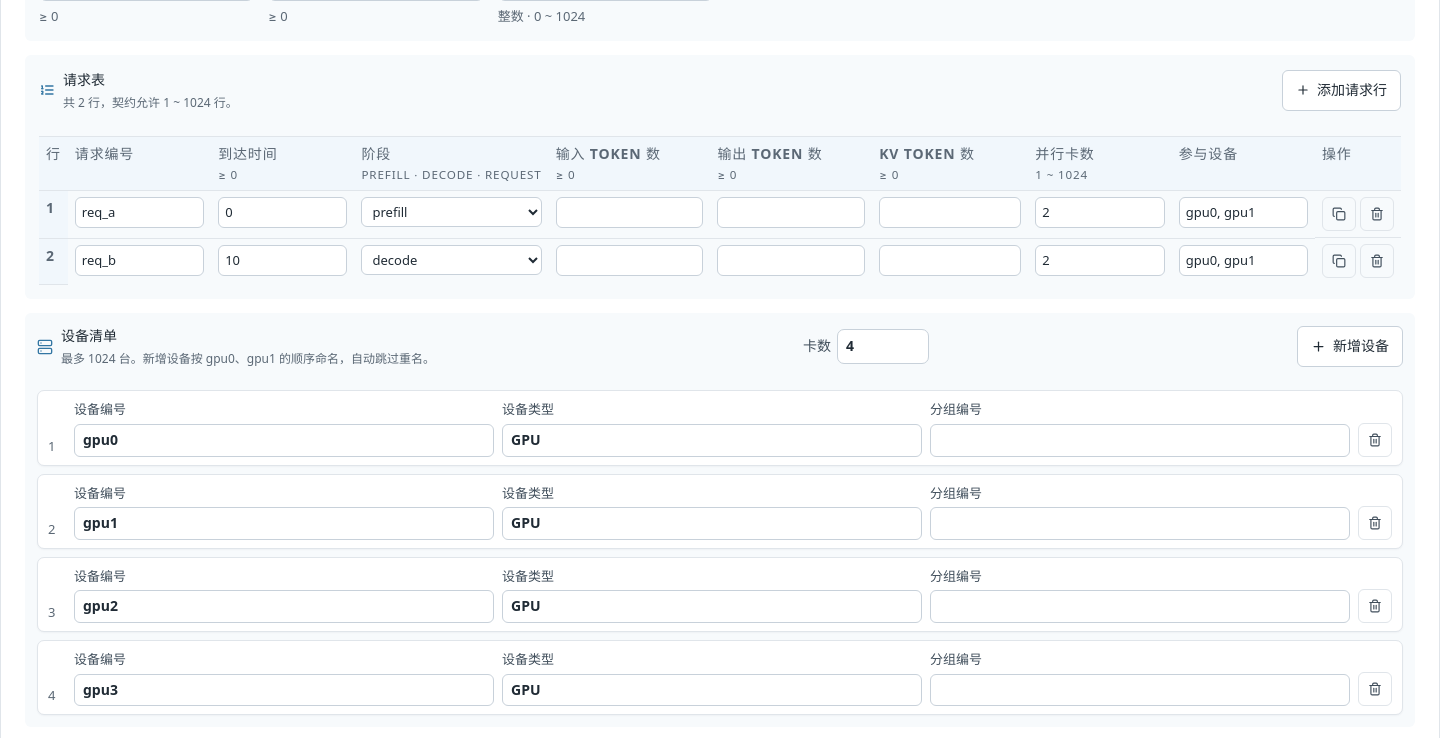
it: structured input panel › refuses a device count below zero with an inline error
(page scrolled)
Step 1. Replace the text in the number field labelled "卡数" with "-2" → {"x": 883, "y": 346}, box [837,329,929,364]
(page scrolled)
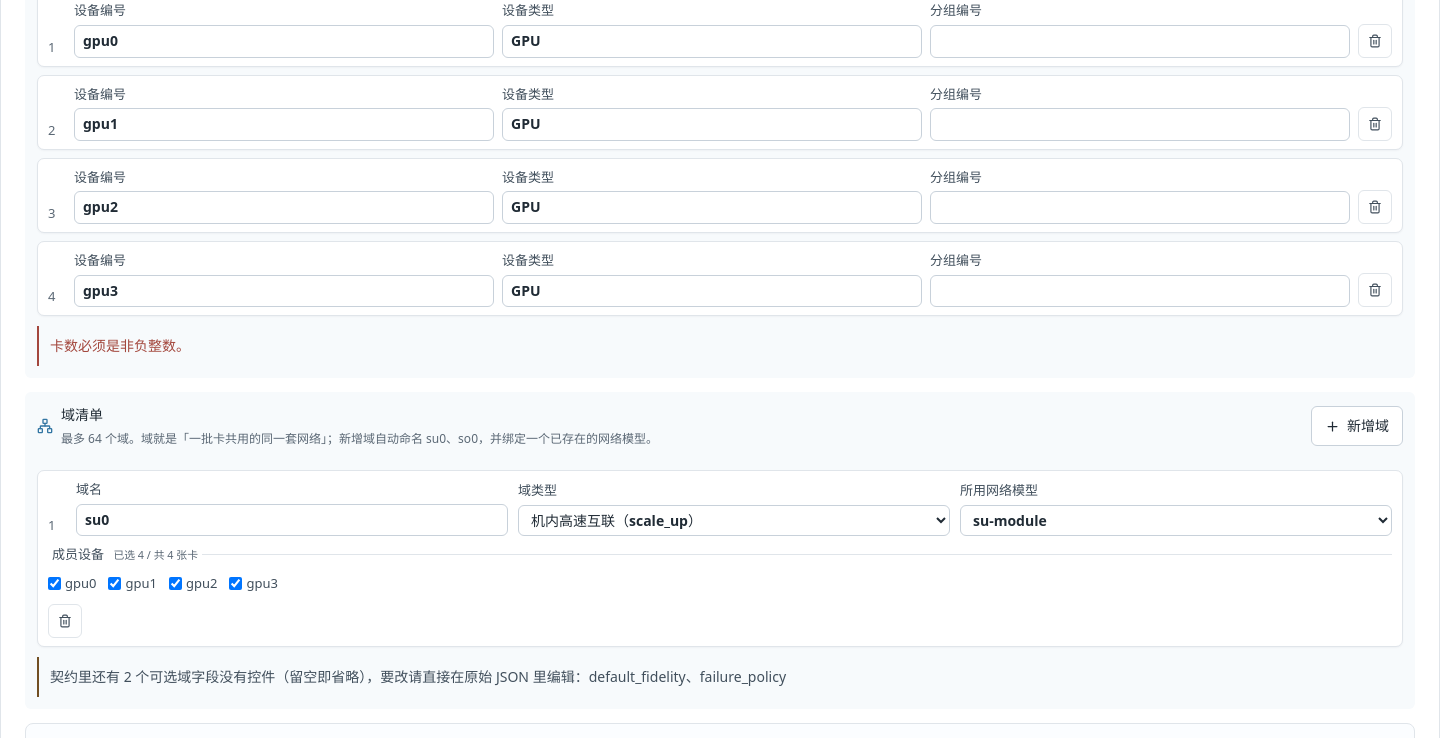
expect the message with class "structured-note--error" shows "非负整数": met, box [50,336,190,355]
